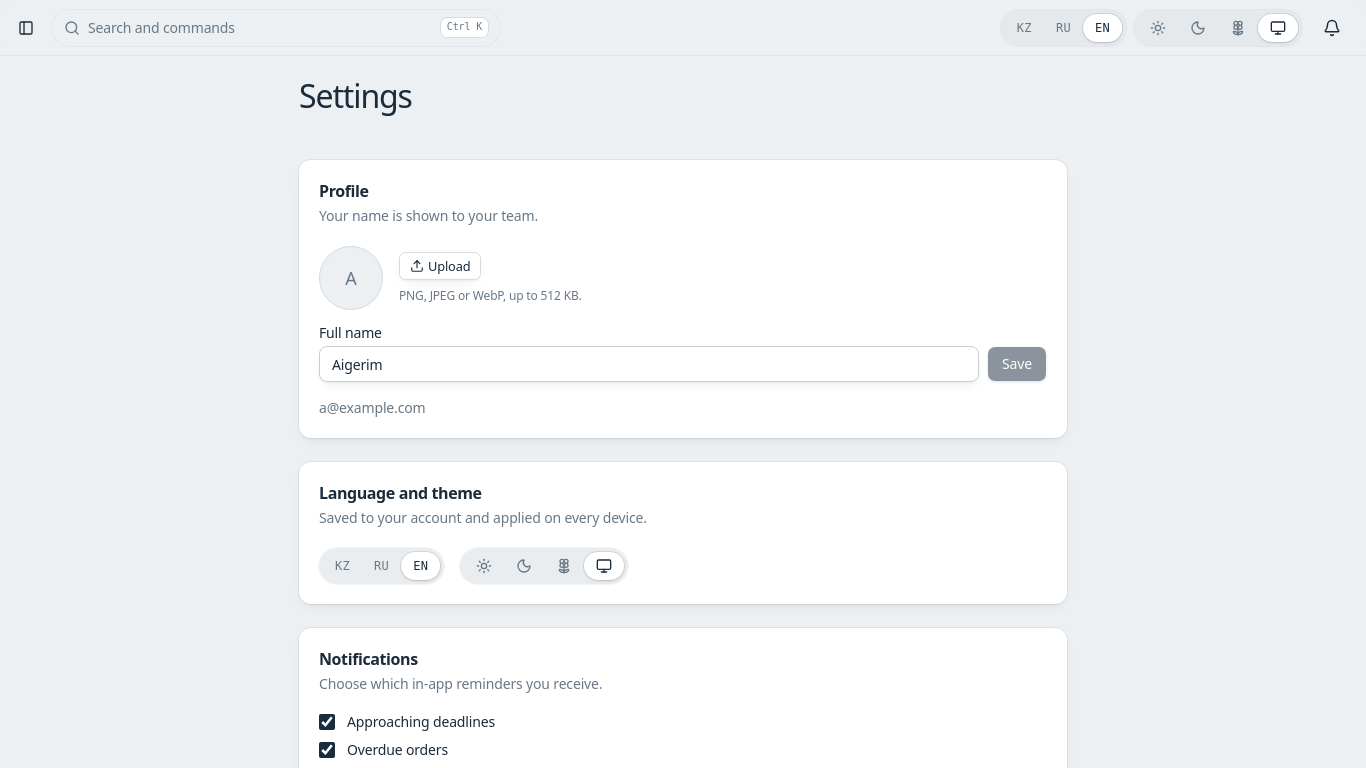
it: settings › saves the language to the account when it is changed
This screenshot has width=1366, height=768.
Click the button "RU" below "Language and theme".
click(382, 566)  # box [362, 552, 401, 580]
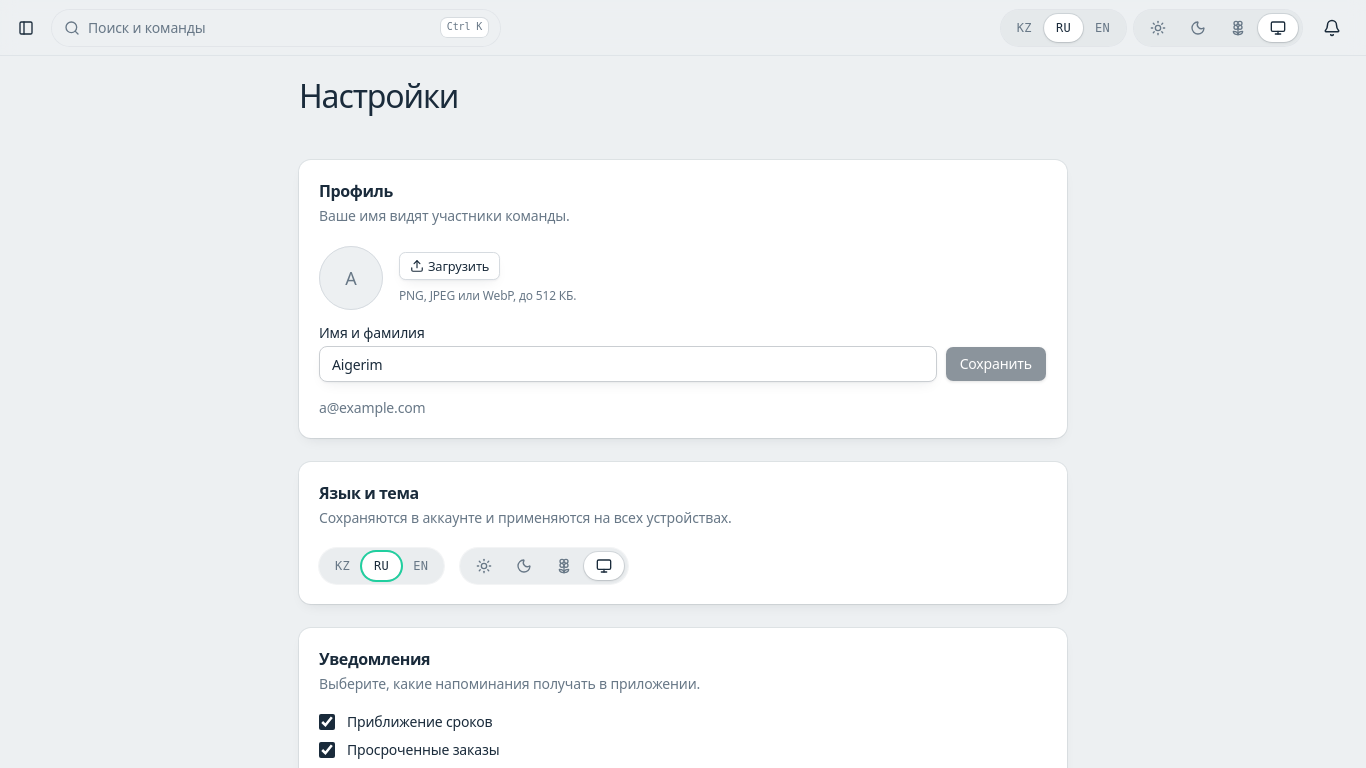
expect the heading "Настройки" is shown: met, box [299, 80, 458, 112]
